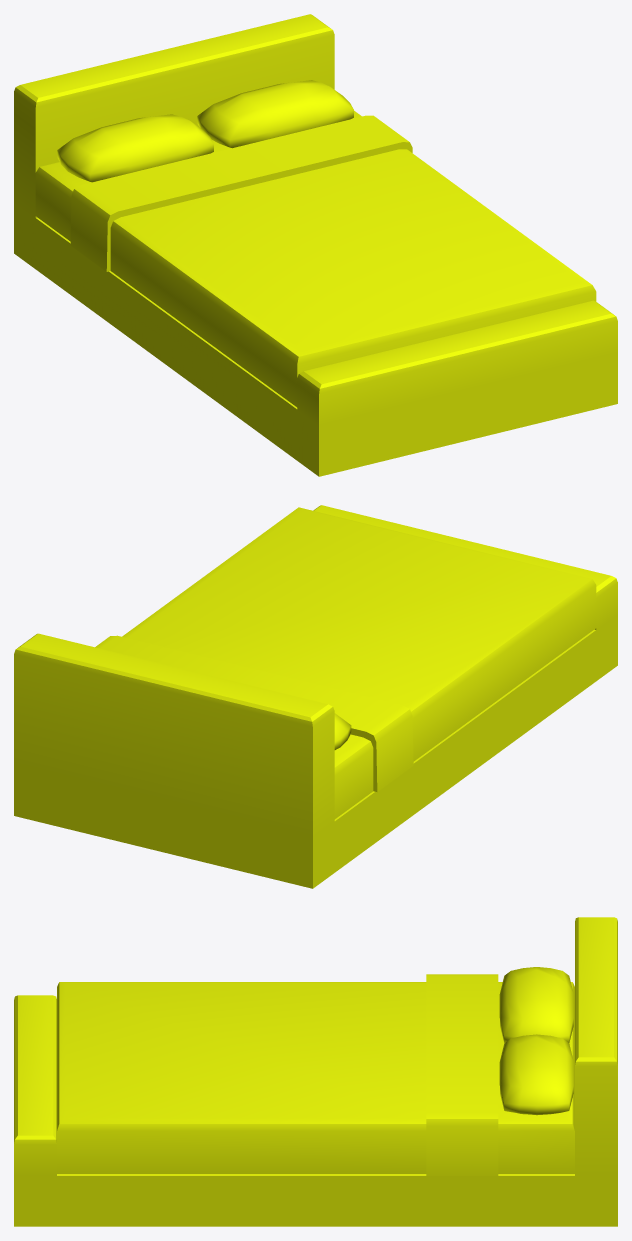
The model's file is Bed2.FBX.
3 renders of one model, top to bottom at view 1: azimuth 30°, elevation 25°; view 2: azimuth 150°, elevation 25°; view 3: azimuth 270°, elevation 25°, orthographic.
Visible parts, largest first — view 1: Box003; view 2: Box003; view 3: Box003.
Part boxes in pixels (x1,y1,x2,y2): Box003: [14, 14, 617, 476]; Box003: [14, 505, 617, 888]; Box003: [14, 917, 617, 1226].
Bounding box in the file's own units: 2.22 × 1.18 × 3.83.
